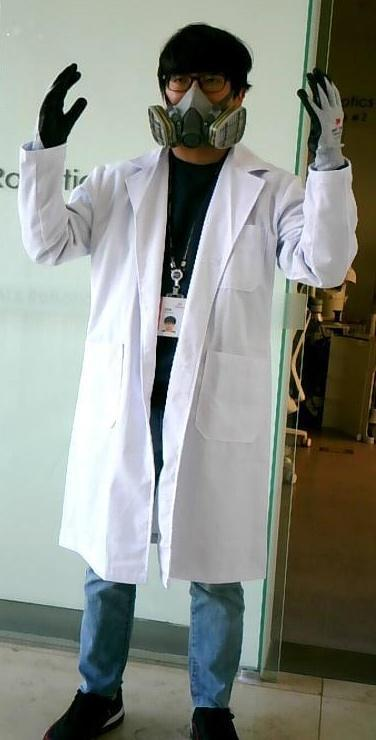lab_coat: (47, 177, 302, 561)
